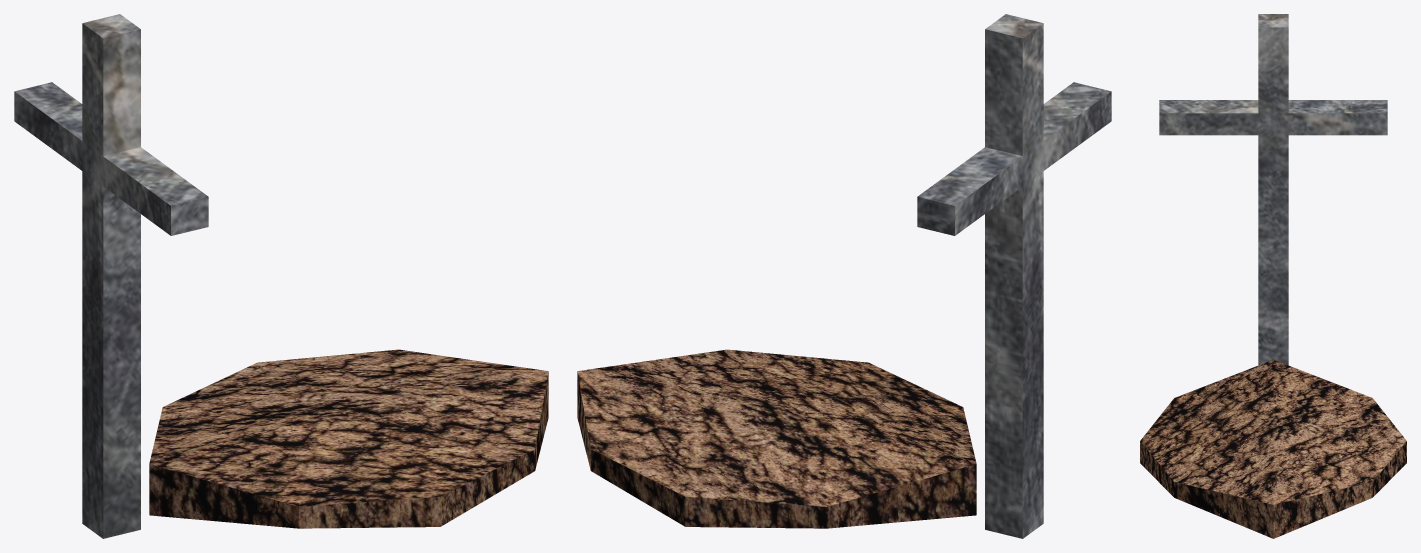
Rendered from grob.glb.
3 views of the same model, side by side, from view 1: azimuth 30°, elevation 25°; view 2: azimuth 150°, elevation 25°; view 3: azimuth 270°, elevation 25° (orthographic). The views are drawn at different scales.
Visible parts, largest first — view 1: Cube; view 2: Cube; view 3: Cube.
Part boxes in pixels (<box>): Cube: <box>14,14,548,538</box>; Cube: <box>577,14,1111,538</box>; Cube: <box>1140,14,1406,538</box>.
Bounding box in the file's own units: 3.86 × 4.05 × 2.69.
2 materials, 2 textured.
